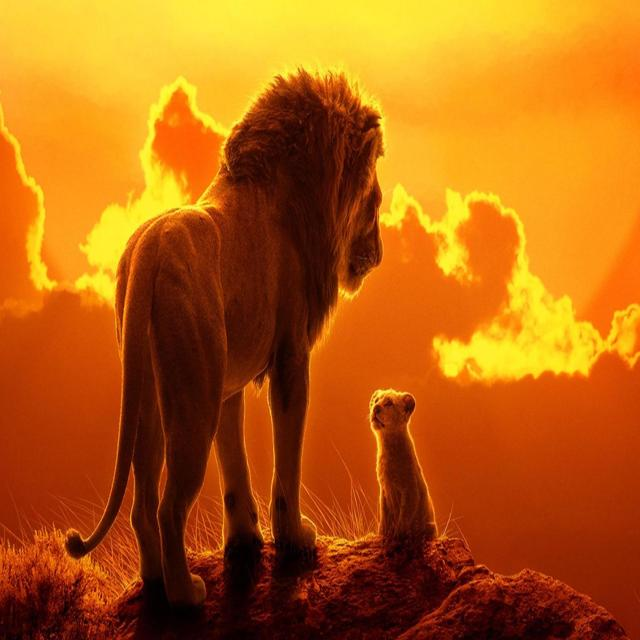Lion: (66, 69, 383, 606), (369, 390, 437, 539)
